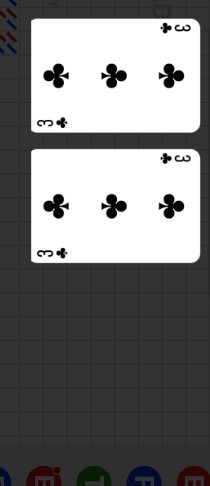3C: (35, 115, 70, 130), (35, 246, 70, 261)
